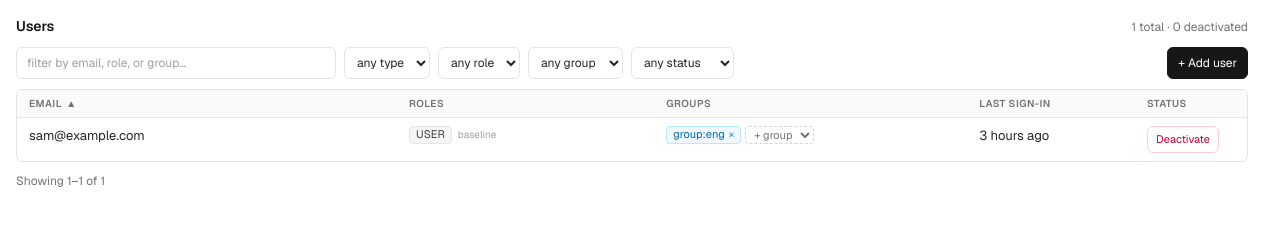
UsersManager › adds a user to a manageable group they are not in
Select "ops" in the dropdown named "add sam@example.com to a group": (780, 135) [745,126,814,144]
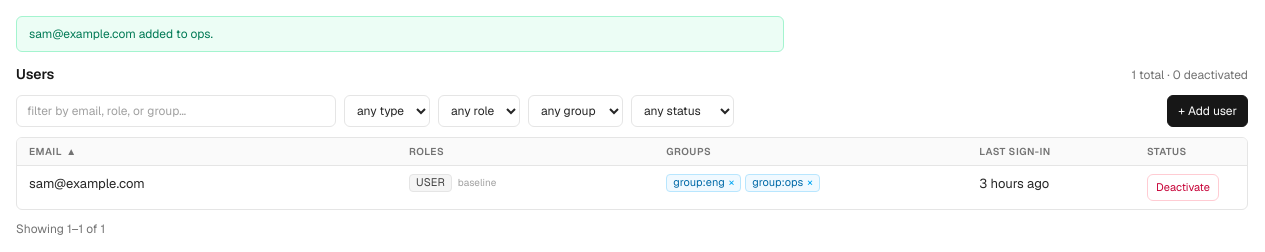
Expected: the text "group:ops" is shown, [745,174,820,192]
Expected: the text "added to ops" is shown, [29,26,213,42]
